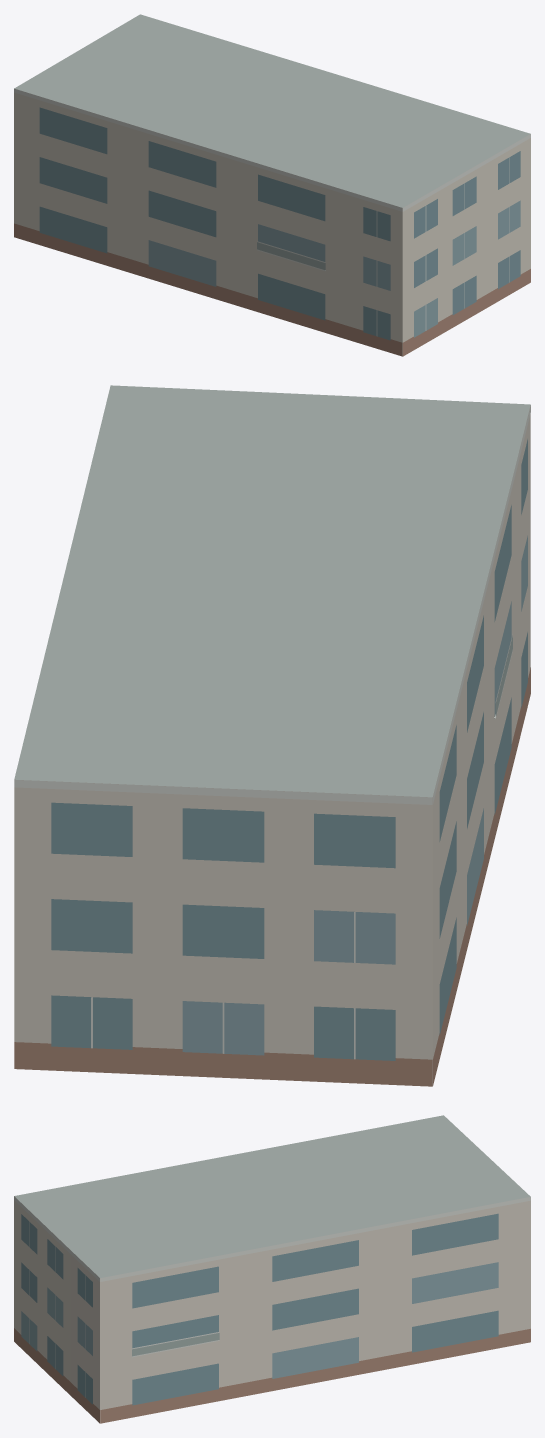
Rendered from survey-upis-32522876.glb.
The picture shows the model from 3 angles, top to bottom: view 1: azimuth 30°, elevation 25°; view 2: azimuth 150°, elevation 25°; view 3: azimuth 270°, elevation 25°; orthographic projection. The views are drawn at different scales.
Parts seen in each view (by area): view 1: survey-upis-32522876.tmp; view 2: survey-upis-32522876.tmp; view 3: survey-upis-32522876.tmp.
Boxes of the visible parts, left/top/right/bottom form: survey-upis-32522876.tmp: left=14, top=14, right=530, bottom=356; survey-upis-32522876.tmp: left=14, top=385, right=530, bottom=1086; survey-upis-32522876.tmp: left=14, top=1115, right=530, bottom=1423.
Bounding box in the file's own units: 21.99 × 9.15 × 29.47.
